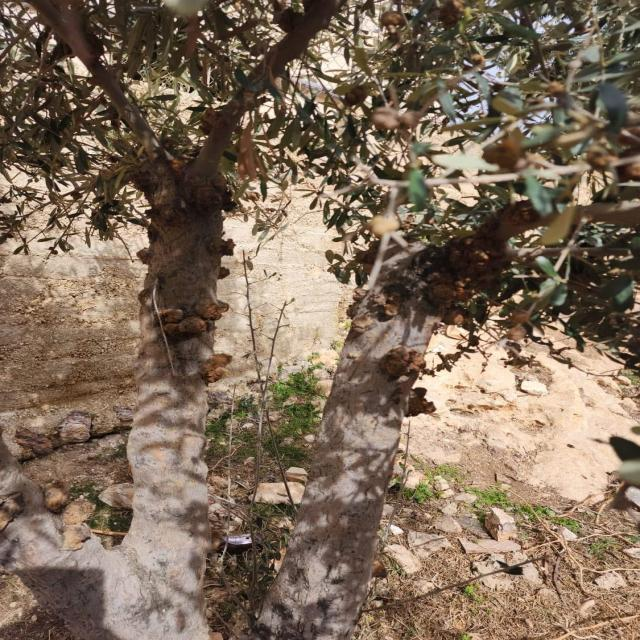Tuberculosis: (424, 218, 509, 324), (158, 300, 228, 338), (380, 346, 426, 380), (378, 282, 406, 320), (202, 352, 232, 383), (404, 387, 435, 417), (348, 314, 379, 338), (346, 284, 366, 320), (208, 238, 235, 260), (137, 248, 152, 264), (216, 266, 230, 280)
